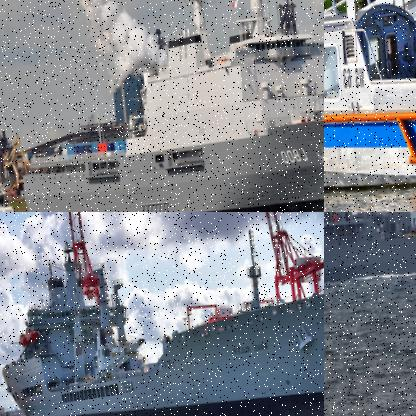Military Ship: (5, 0, 323, 211), (0, 213, 323, 415), (324, 212, 415, 296)
Patrol Boat: (324, 0, 415, 211)
Tugboat: (0, 147, 41, 211)
